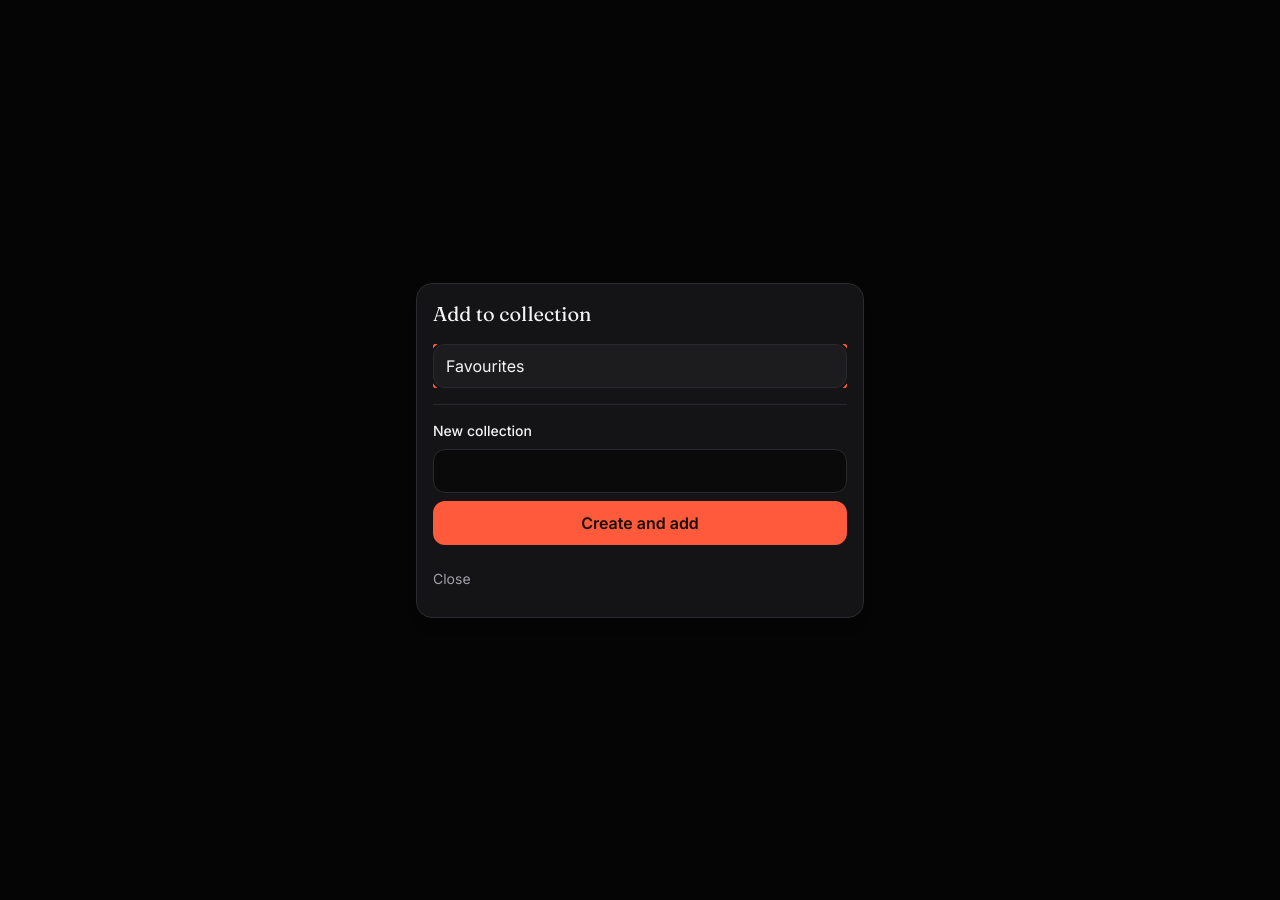
Test: AddToCollectionModal › shows collection limit message from create
Type "Shelf" into the field labelled "New collection" at (640, 470), box x1=433 y1=448 x2=847 y2=492
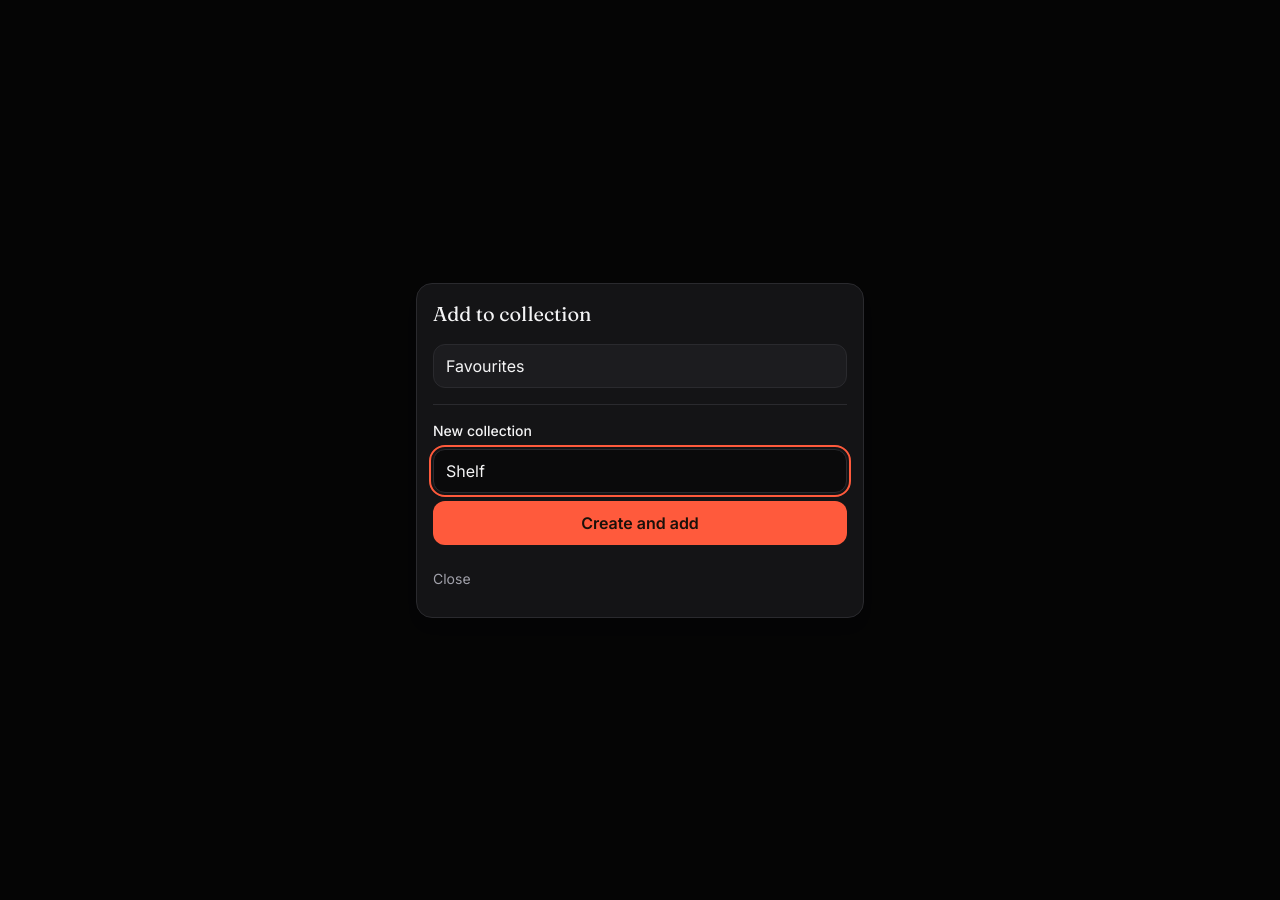
Click the button "Create and add" at (640, 522), box x1=433 y1=500 x2=847 y2=544
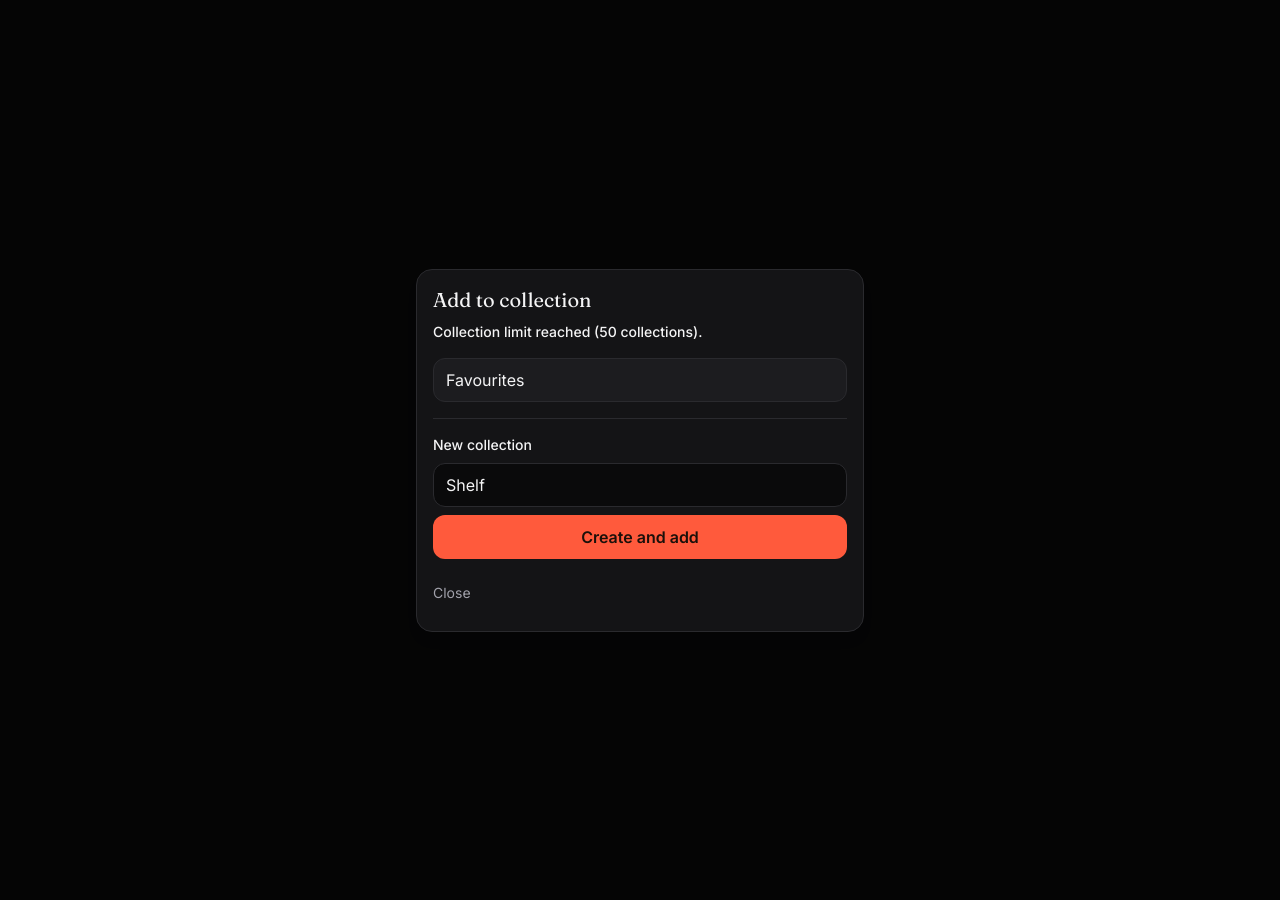
expect the text "Collection limit reached (50 collections)." is shown: met, box x1=433 y1=322 x2=702 y2=340
